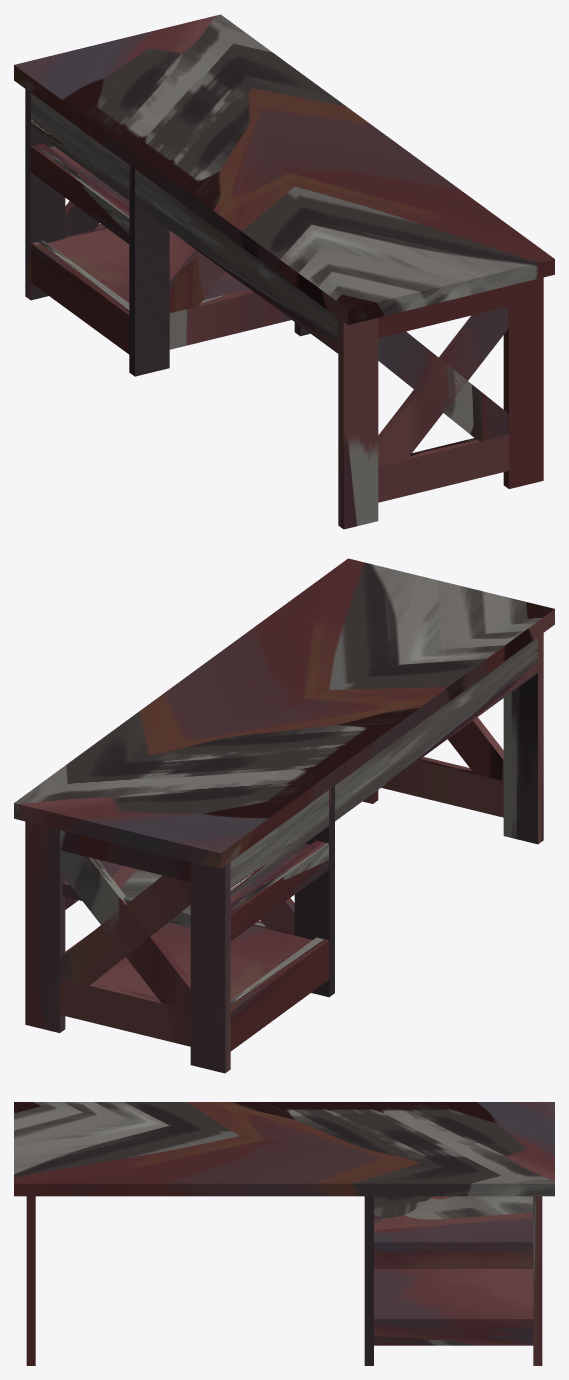
The model's file is desk.fbx.
3 views of the same model, one above another, from view 1: azimuth 30°, elevation 25°; view 2: azimuth 150°, elevation 25°; view 3: azimuth 270°, elevation 25° (orthographic). The views are drawn at different scales.
Visible parts, largest first — view 1: desk; view 2: desk; view 3: desk.
Boxes of the visible parts, bbox=[...] form: desk: bbox=[14, 14, 554, 529]; desk: bbox=[14, 558, 554, 1073]; desk: bbox=[14, 1102, 554, 1365].
Bounding box in the file's own units: 391 × 410 × 1096.
